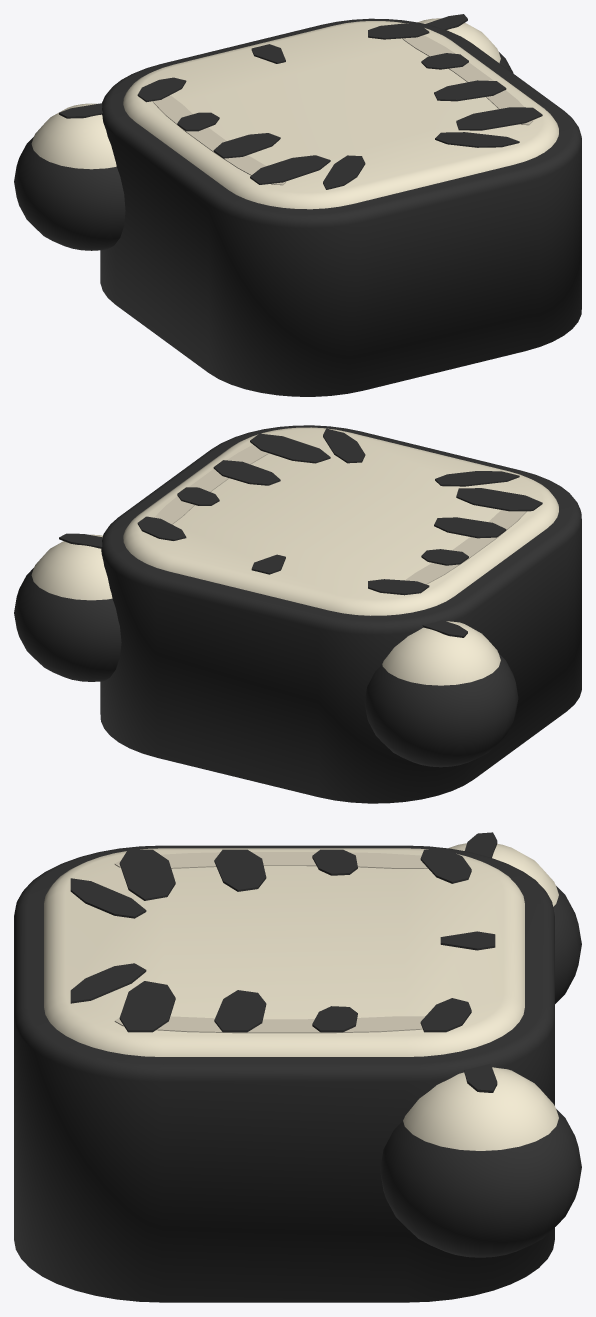
Rendered from body_estampa_zebra.fbx.
The picture shows the model from 3 angles, top to bottom: view 1: azimuth 30°, elevation 25°; view 2: azimuth 150°, elevation 25°; view 3: azimuth 270°, elevation 25°; orthographic projection. The views are drawn at different scales.
Parts seen in each view (by area): view 1: body_estampa_zebra_corpo, body_estampa_zebra_mao_esq, body_estampa_zebra_mao; view 2: body_estampa_zebra_corpo, body_estampa_zebra_mao_esq, body_estampa_zebra_mao; view 3: body_estampa_zebra_corpo, body_estampa_zebra_mao, body_estampa_zebra_mao_esq.
Boxes of the visible parts, x1,y1,x2,y2 form: body_estampa_zebra_corpo: (100,18,581,396); body_estampa_zebra_mao_esq: (14,103,125,250); body_estampa_zebra_mao: (418,14,513,73); body_estampa_zebra_corpo: (100,425,581,803); body_estampa_zebra_mao_esq: (364,620,518,767); body_estampa_zebra_mao: (14,533,121,681); body_estampa_zebra_corpo: (14,845,554,1302); body_estampa_zebra_mao: (380,1063,581,1257); body_estampa_zebra_mao_esq: (449,832,581,1003).
Bounding box in the file's own units: 5.4 × 2.03 × 4.2.
1 material, 1 textured.
